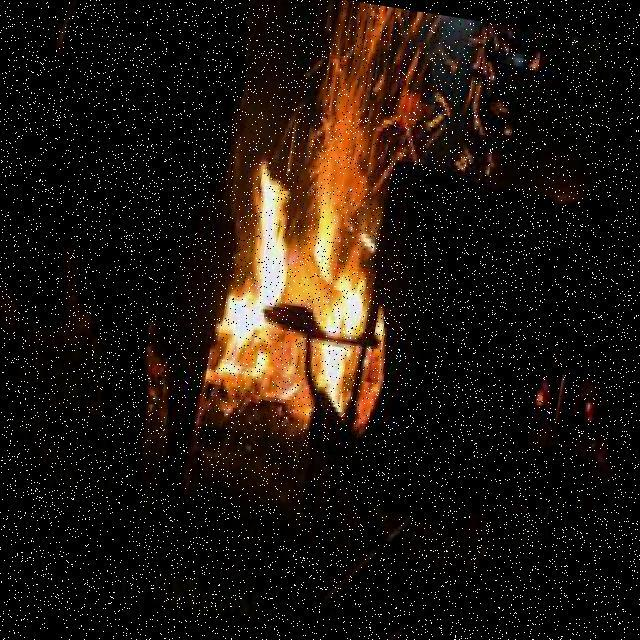Fire: (204, 152, 398, 427)
